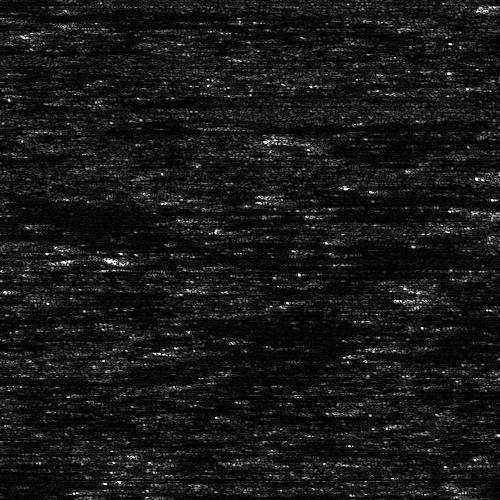object: (38, 247, 183, 266), (307, 77, 380, 88), (421, 490, 500, 500), (79, 490, 184, 497), (161, 213, 234, 222), (438, 174, 500, 183), (263, 135, 304, 148), (410, 294, 483, 301), (465, 0, 500, 13), (52, 19, 115, 26), (215, 54, 288, 59), (247, 196, 310, 201), (193, 123, 256, 128), (208, 226, 261, 231), (453, 208, 500, 213), (382, 389, 423, 394), (398, 344, 429, 347), (0, 207, 12, 212), (0, 314, 6, 321)
shadow: (110, 247, 500, 266), (0, 364, 123, 395), (284, 135, 500, 148), (0, 366, 203, 377), (198, 213, 426, 222), (0, 311, 127, 326), (132, 490, 372, 497), (83, 19, 297, 26), (224, 123, 500, 128), (279, 196, 500, 201), (0, 314, 140, 321), (344, 77, 419, 88), (0, 207, 131, 212), (0, 460, 116, 465), (403, 389, 500, 394), (235, 226, 312, 231), (446, 294, 500, 301), (252, 54, 325, 59), (67, 128, 420, 129), (468, 490, 500, 500), (414, 344, 500, 347), (490, 208, 500, 213)
